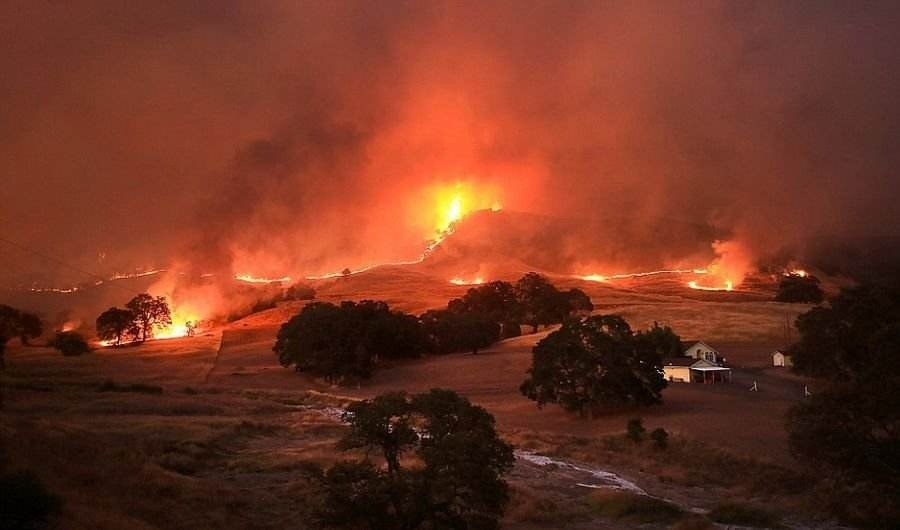fire: (415, 174, 498, 249), (683, 253, 741, 291)
